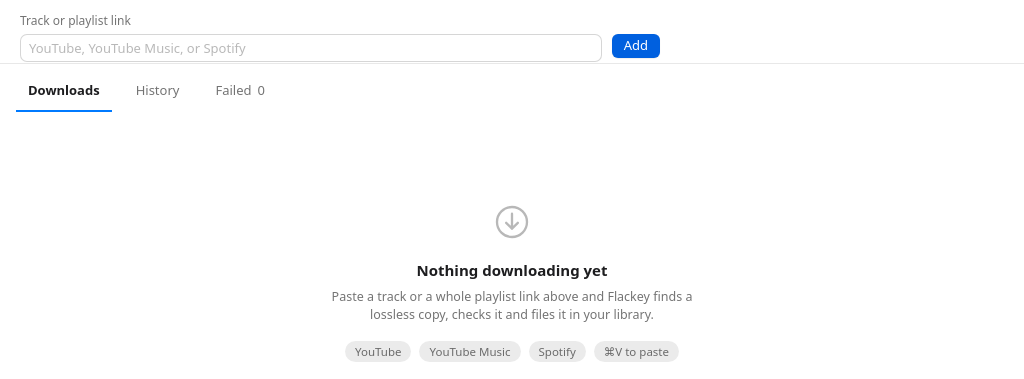
Scenario: refreshes queue and playlists after a paste submission returns
Type "https://open.spotify.com/playlist/pl1" into the field labelled "Track or playlist link".
click(311, 48); type("https://open.spotify.com/playlist/pl1")  # box [20,34,602,62]
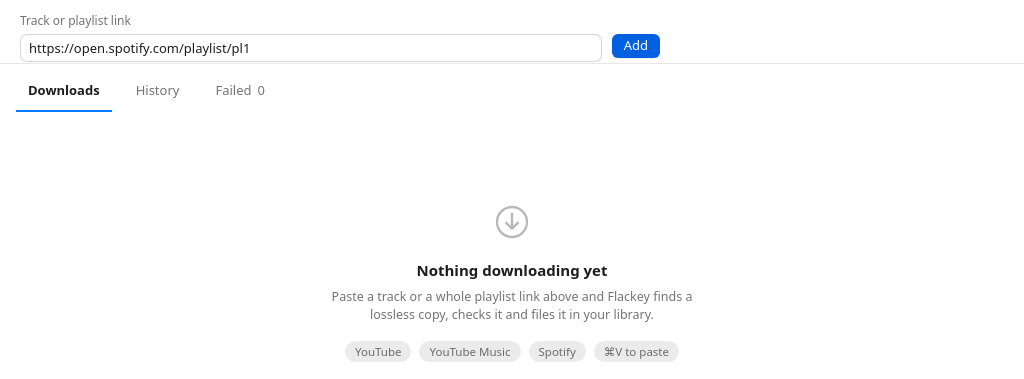
Click the button "Add".
click(636, 46)  # box [612,34,660,58]
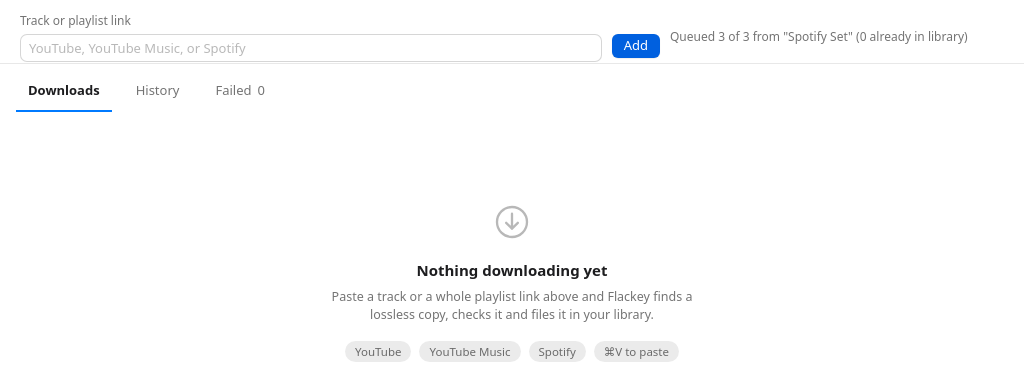
Expected: the text "Queued 3 of 3 from \"Spotify Set\" (0 already in library)" is shown, [670,29,968,46]
